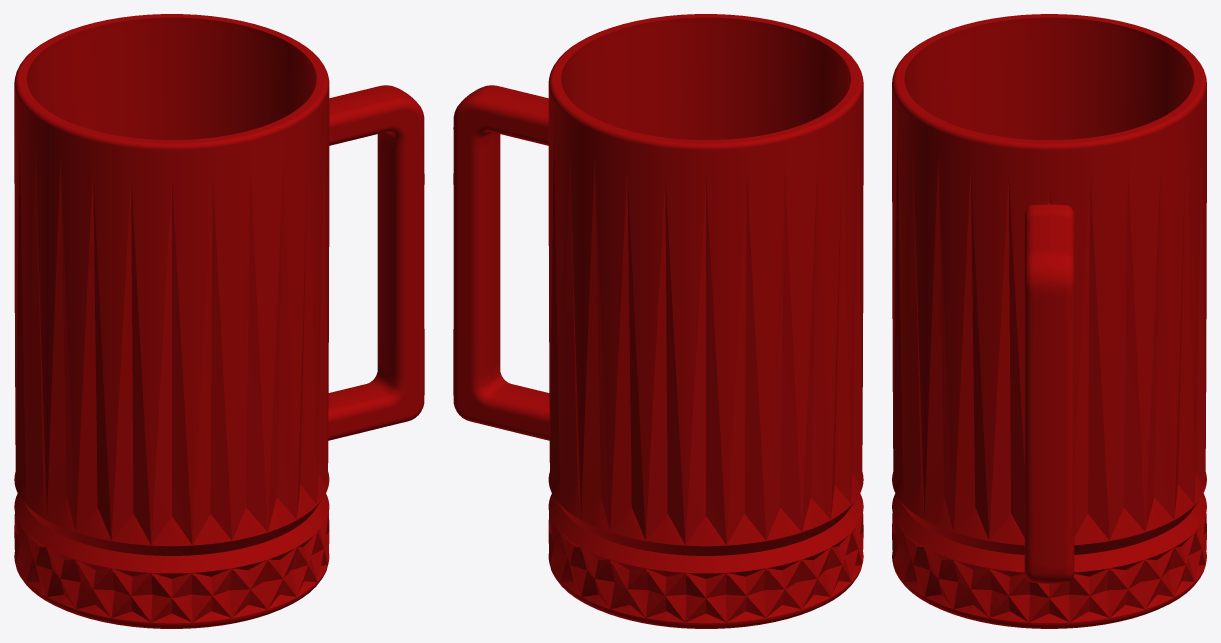
File: CM-MUG049A.glb
The picture shows the model from 3 angles, left to right: view 1: azimuth 30°, elevation 25°; view 2: azimuth 150°, elevation 25°; view 3: azimuth 270°, elevation 25°; orthographic projection.
Bounding box in the file's own units: 0.0983 × 0.12 × 0.0703.
